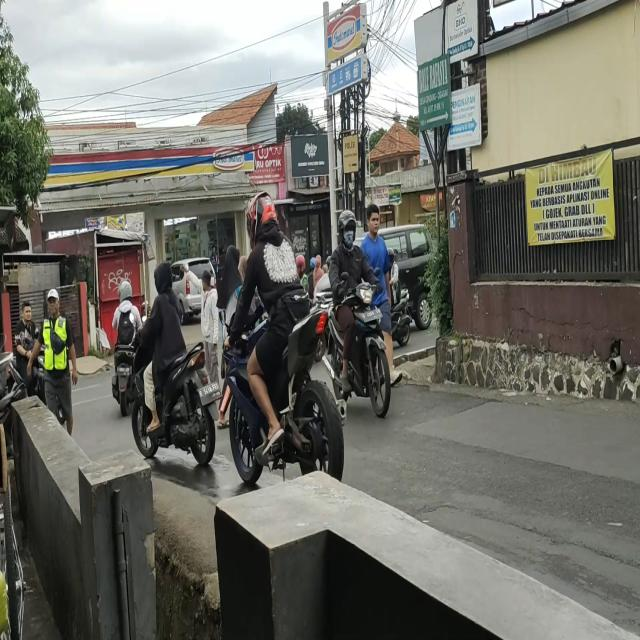helmet: (245, 197, 281, 249), (338, 213, 357, 250), (114, 278, 134, 306)
no-helmet: (155, 263, 172, 299), (19, 299, 34, 326)
